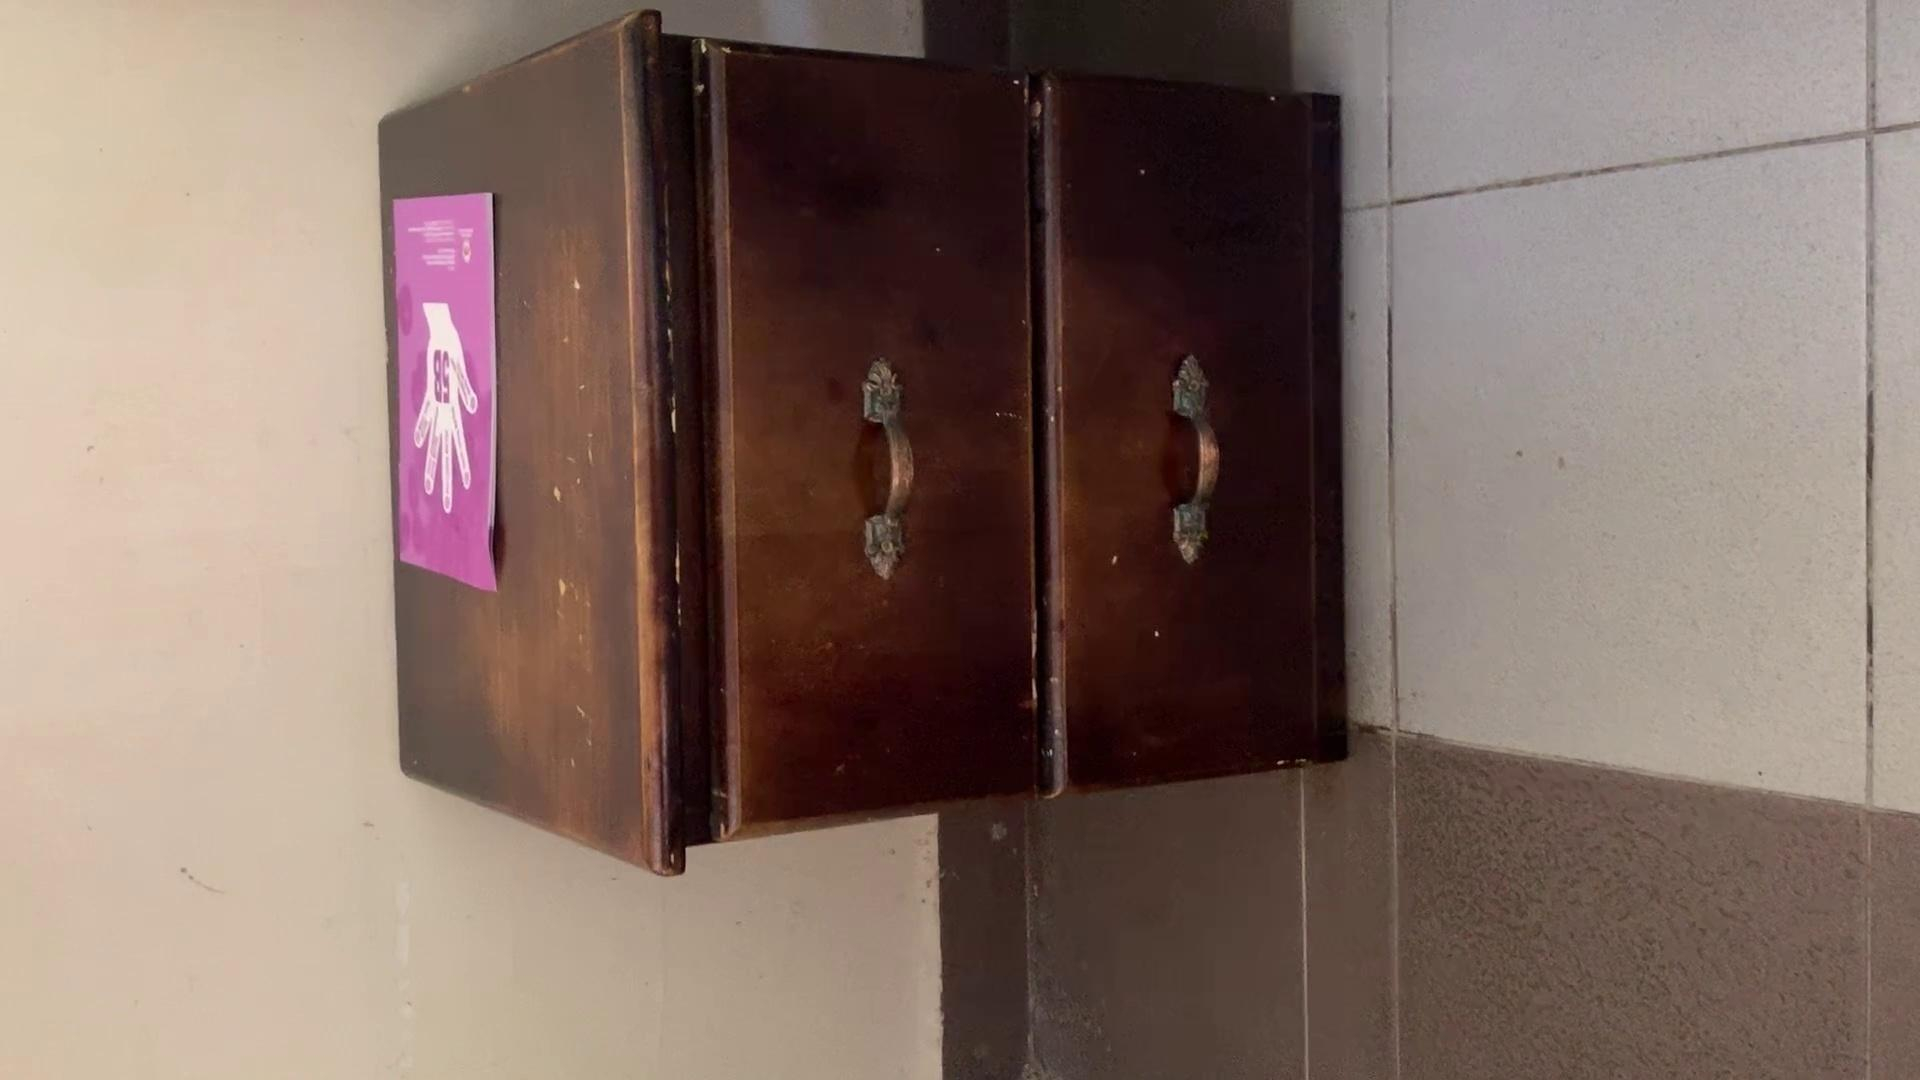cabinet_door: (703, 49, 1034, 802), (1036, 76, 1317, 771)
handle: (1155, 352, 1229, 574), (852, 355, 916, 584)
